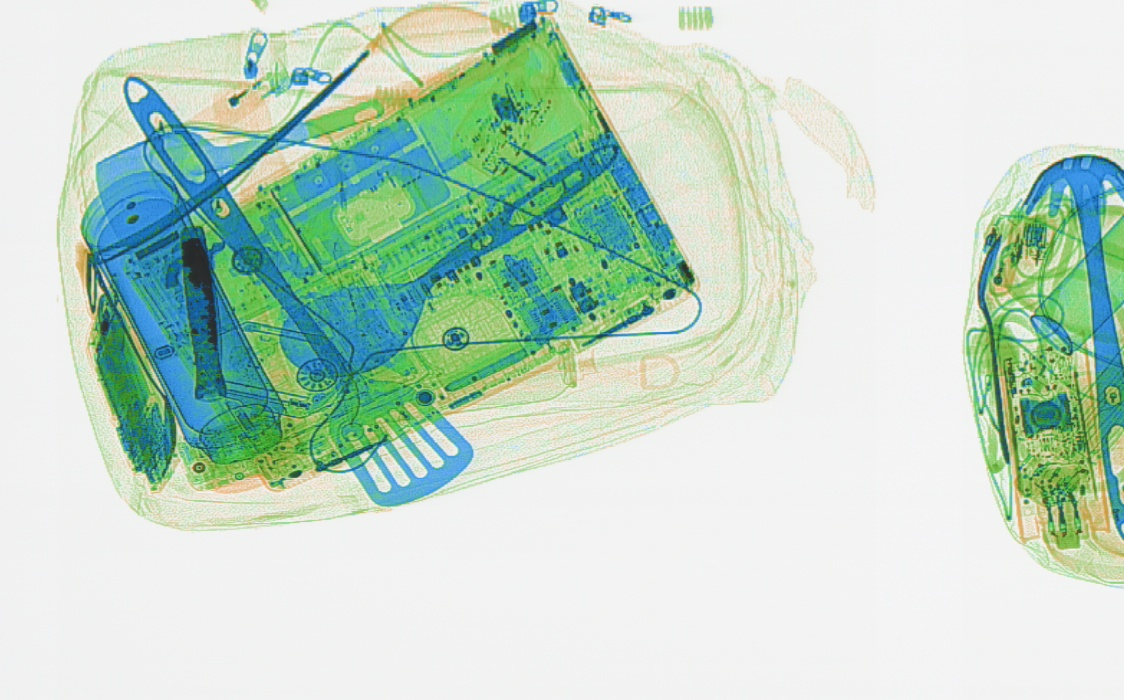knife: (177, 224, 226, 403)
lighter: (173, 60, 290, 141)
pressure: (1026, 185, 1121, 354)
